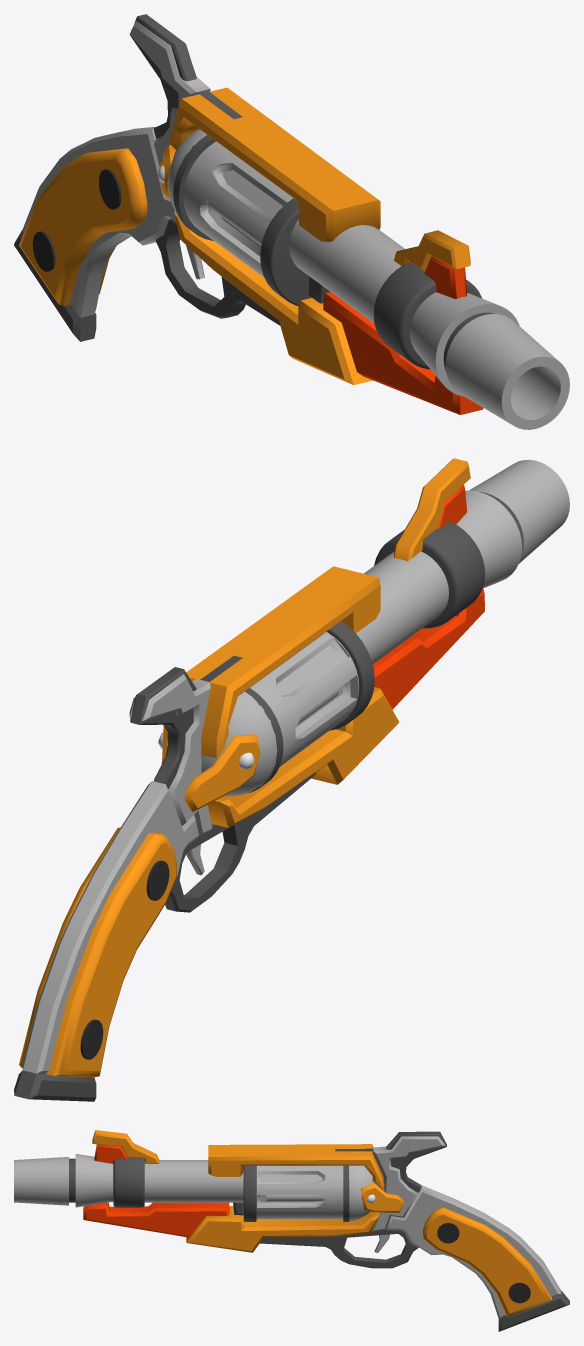
3 views of the same model, one above another, from view 1: azimuth 30°, elevation 25°; view 2: azimuth 150°, elevation 25°; view 3: azimuth 270°, elevation 25° (orthographic). The views are drawn at different scales.
Parts seen in each view (by area): view 1: bodyC1, tubeM1, handleC1, tamborMovible, handleM1, bodyC2, tubeM2, tamborM2, triggerplate, bodyM1, bodyM2, tornillos (+2 smaller); view 2: bodyC1, tubeM1, handleC1, handleM1, tamborMovible, bodyC2, bodyM1, tubeM2, triggerplate, bodyM2, tamborM1, tamborM2 (+2 smaller); view 3: bodyC1, tubeM1, handleC1, tamborMovible, handleM1, bodyC2, bodyM1, triggerplate, tubeM2, bodyM2, tamborM2, tamborM1 (+2 smaller).
Boxes of the visible parts, <box> form: bodyC1: <box>160,87,470,385</box>; tubeM1: <box>289,219,569,429</box>; handleC1: <box>19,148,147,305</box>; tamborMovible: <box>183,141,293,277</box>; handleM1: <box>22,126,175,317</box>; bodyC2: <box>323,256,483,414</box>; tubeM2: <box>308,262,494,370</box>; tamborM2: <box>173,135,311,306</box>; triggerplate: <box>155,219,280,325</box>; bodyM1: <box>129,21,210,166</box>; bodyM2: <box>130,14,242,138</box>; tornillos: <box>32,169,121,271</box>; bodyC1: <box>161,458,470,827</box>; tubeM1: <box>356,459,569,664</box>; handleC1: <box>19,827,176,1077</box>; handleM1: <box>22,781,198,1077</box>; tamborMovible: <box>250,632,359,766</box>; bodyC2: <box>373,485,484,709</box>; bodyM1: <box>129,674,212,836</box>; tubeM2: <box>374,507,515,628</box>; triggerplate: <box>165,772,316,912</box>; bodyM2: <box>130,655,242,788</box>; tamborM1: <box>201,691,277,796</box>; tamborM2: <box>245,621,374,792</box>; bodyC1: <box>92,1130,404,1252</box>; tubeM1: <box>14,1154,243,1207</box>; handleC1: <box>423,1207,551,1316</box>; tamborMovible: <box>256,1165,343,1218</box>; handleM1: <box>386,1185,561,1318</box>; bodyC2: <box>83,1144,229,1237</box>; bodyM1: <box>372,1136,445,1231</box>; triggerplate: <box>260,1229,418,1268</box>; tubeM2: <box>69,1157,243,1215</box>; bodyM2: <box>335,1131,446,1192</box>; tamborM2: <box>243,1165,349,1221</box>; tamborM1: <box>349,1165,379,1221</box>.
Size of the model in its own units: 46 by 154 by 391.
